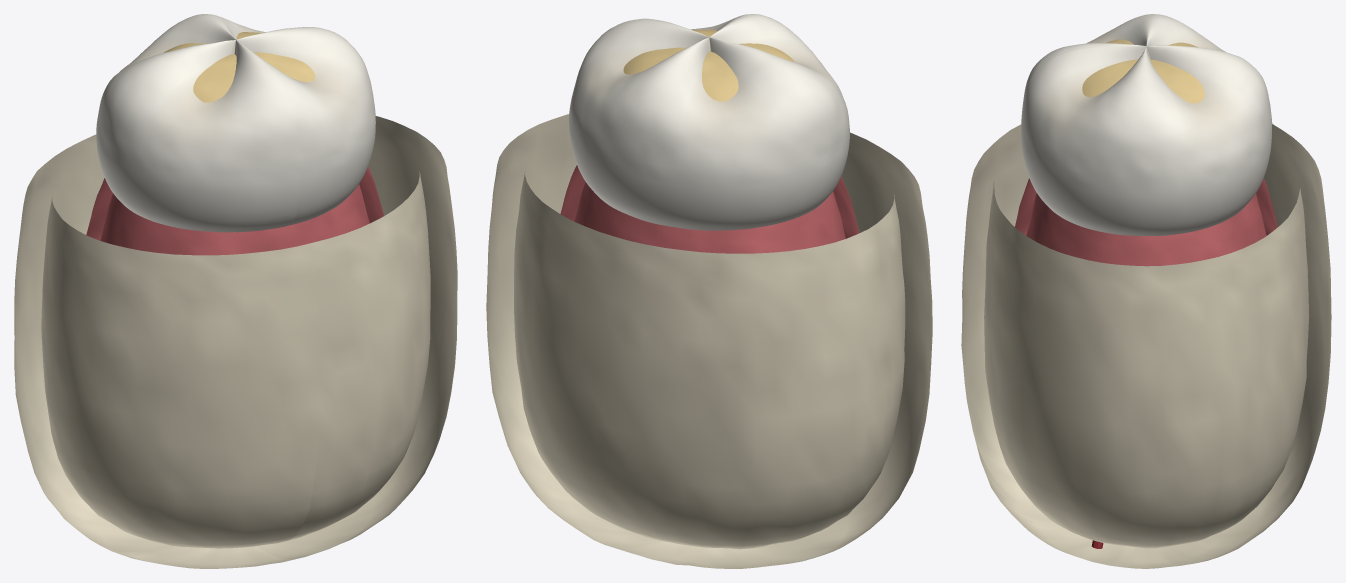
The model's file is tooth.glb.
The picture shows the model from 3 angles, left to right: view 1: azimuth 30°, elevation 25°; view 2: azimuth 150°, elevation 25°; view 3: azimuth 270°, elevation 25°; orthographic projection. The views are drawn at different scales.
Visible parts, largest first — view 1: alveolar_bone, enamel, gingiva, dentin; view 2: alveolar_bone, enamel, gingiva, dentin; view 3: alveolar_bone, enamel, gingiva, dentin.
Boxes of the visible parts, left/top/right/bottom form: alveolar_bone: left=14, top=116, right=457, bottom=568; enamel: left=96, top=14, right=375, bottom=232; gingiva: left=86, top=166, right=383, bottom=255; dentin: left=164, top=32, right=315, bottom=102; alveolar_bone: left=486, top=114, right=932, bottom=568; enamel: left=569, top=14, right=849, bottom=230; gingiva: left=560, top=165, right=859, bottom=253; dentin: left=623, top=30, right=794, bottom=101; alveolar_bone: left=961, top=124, right=1331, bottom=568; enamel: left=1021, top=14, right=1272, bottom=235; gingiva: left=1015, top=178, right=1277, bottom=266; dentin: left=1082, top=39, right=1204, bottom=103.
Size of the model in its own units: 1.64 by 1.93 by 1.35.
